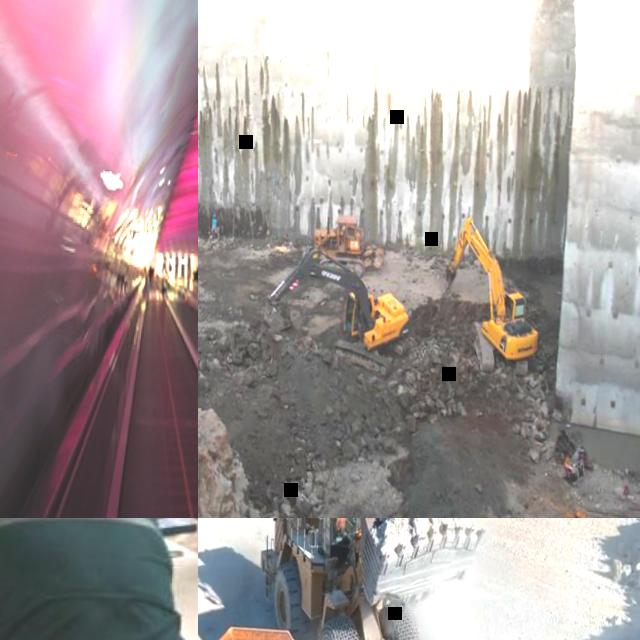Hardhat: (212, 213, 216, 217)
NO-Safety Vest: (0, 518, 185, 640), (337, 518, 345, 529)
Person: (0, 518, 191, 640), (335, 518, 352, 531), (564, 452, 573, 473), (210, 211, 217, 233)
Safety Vest: (211, 219, 216, 229)
vehicle: (256, 518, 485, 640), (262, 246, 414, 376), (441, 212, 544, 378), (301, 213, 367, 274)
